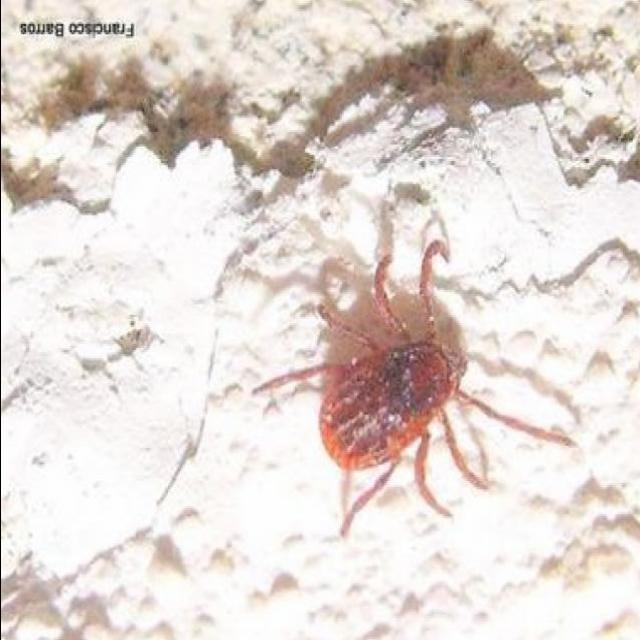Rhipicephalus Sanguineus-F: (250, 238, 574, 541)
